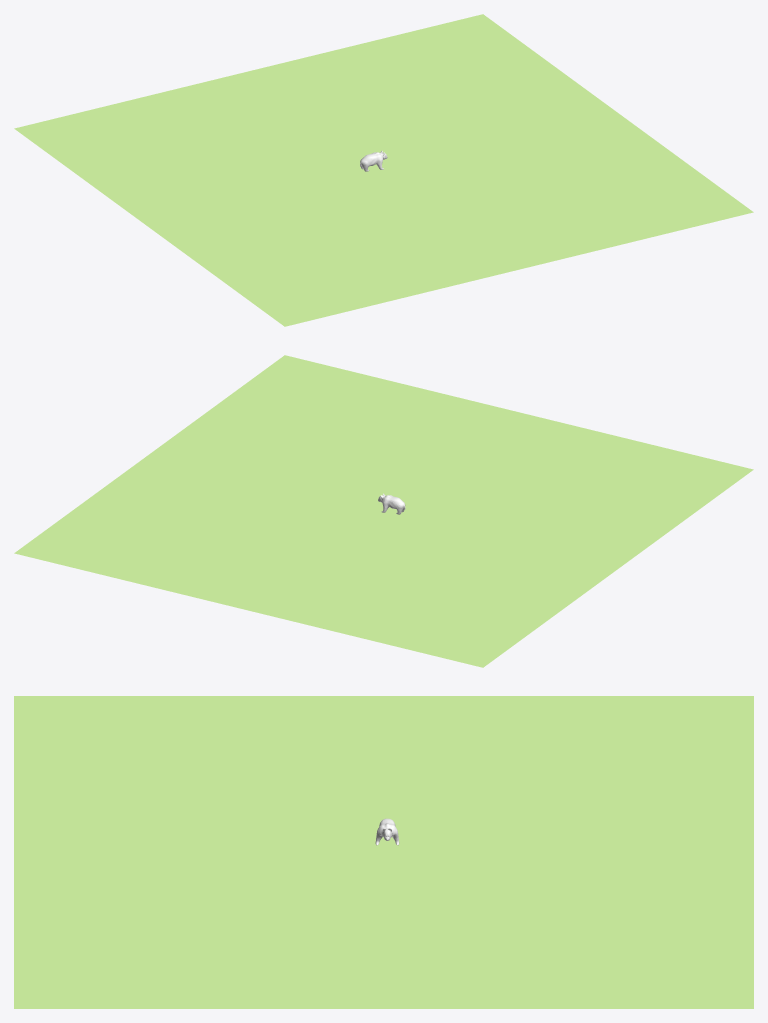
File: panda1.glb
3 views of the same model, one above another, from view 1: azimuth 30°, elevation 25°; view 2: azimuth 150°, elevation 25°; view 3: azimuth 270°, elevation 25° (orthographic). The views are drawn at different scales.
Visible parts, largest first — view 1: Plane; view 2: Plane; view 3: Plane.
Part boxes in pixels (<box>): Plane: <box>14,14,753,326</box>; Plane: <box>14,355,753,667</box>; Plane: <box>14,696,753,1008</box>.
Bounding box in the file's own units: 90.52 × 3.37 × 90.52.
